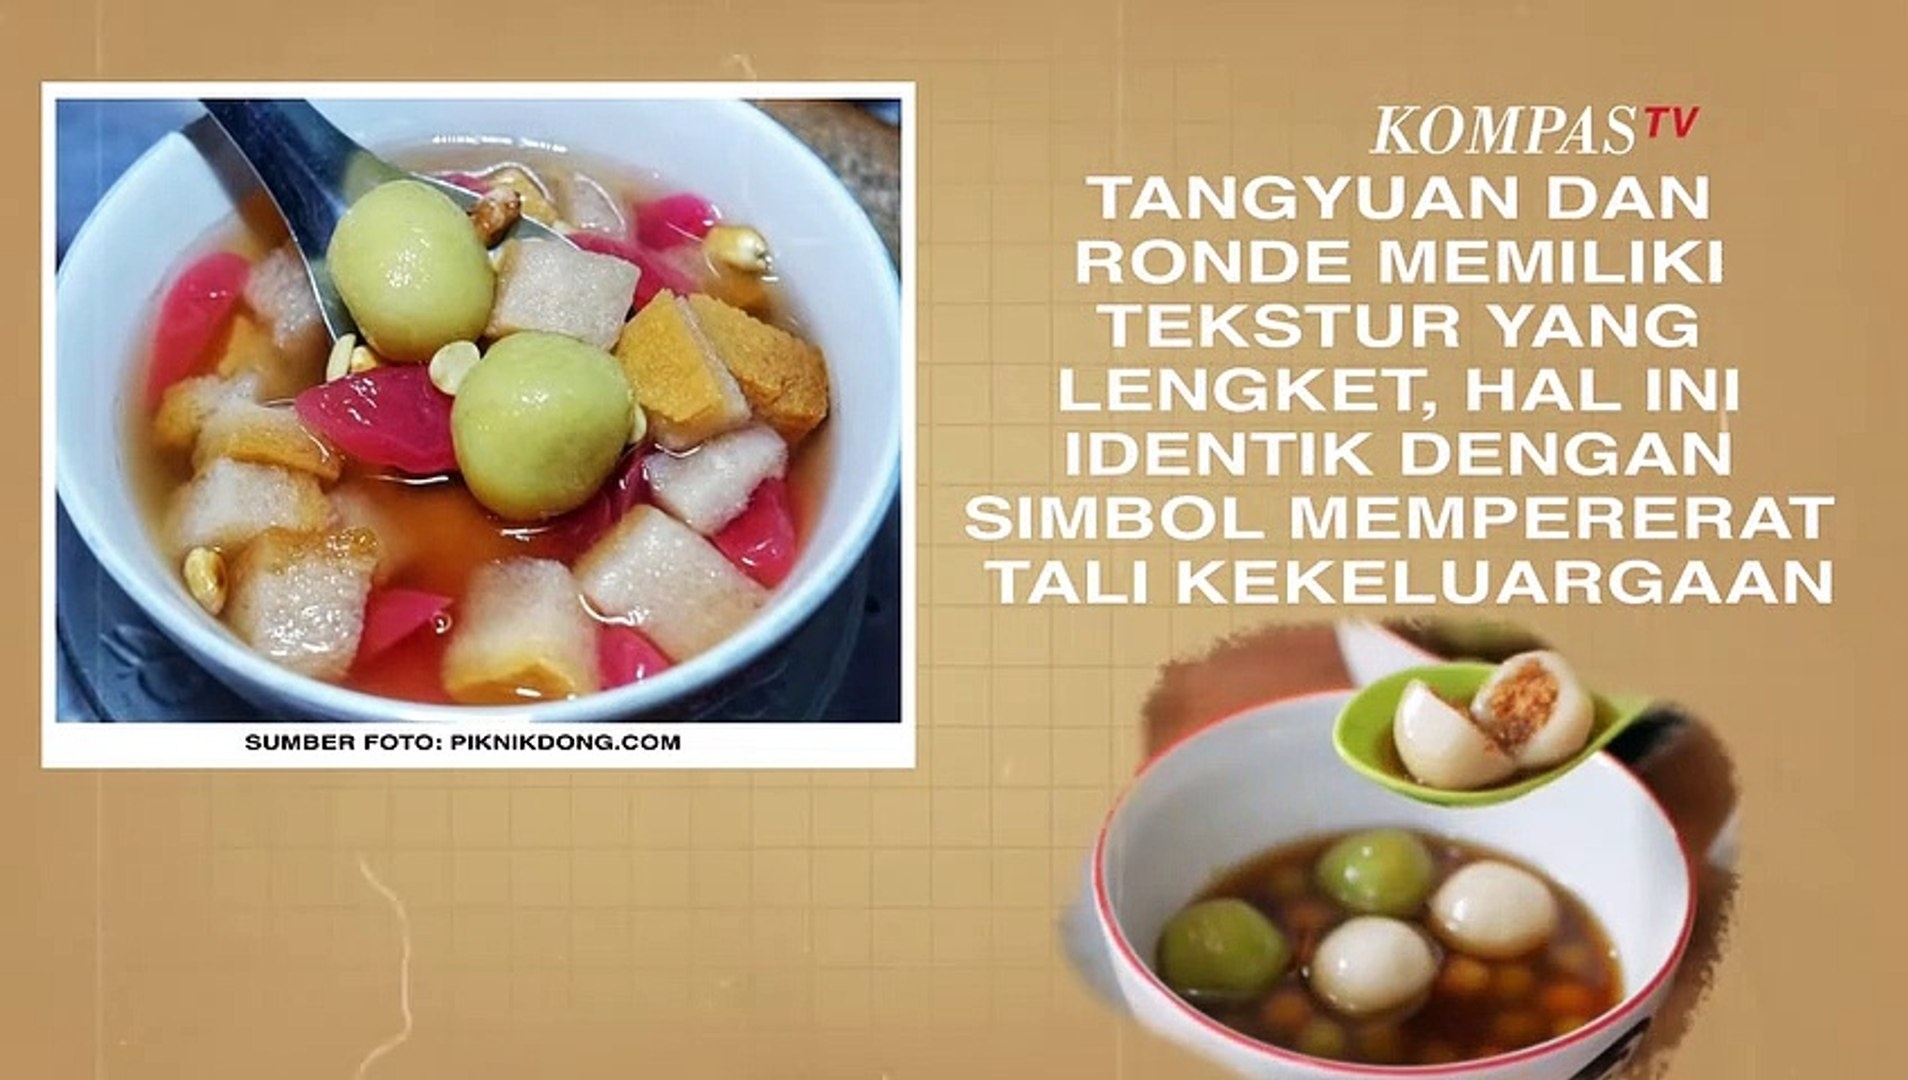ronde: (142, 159, 833, 700)
